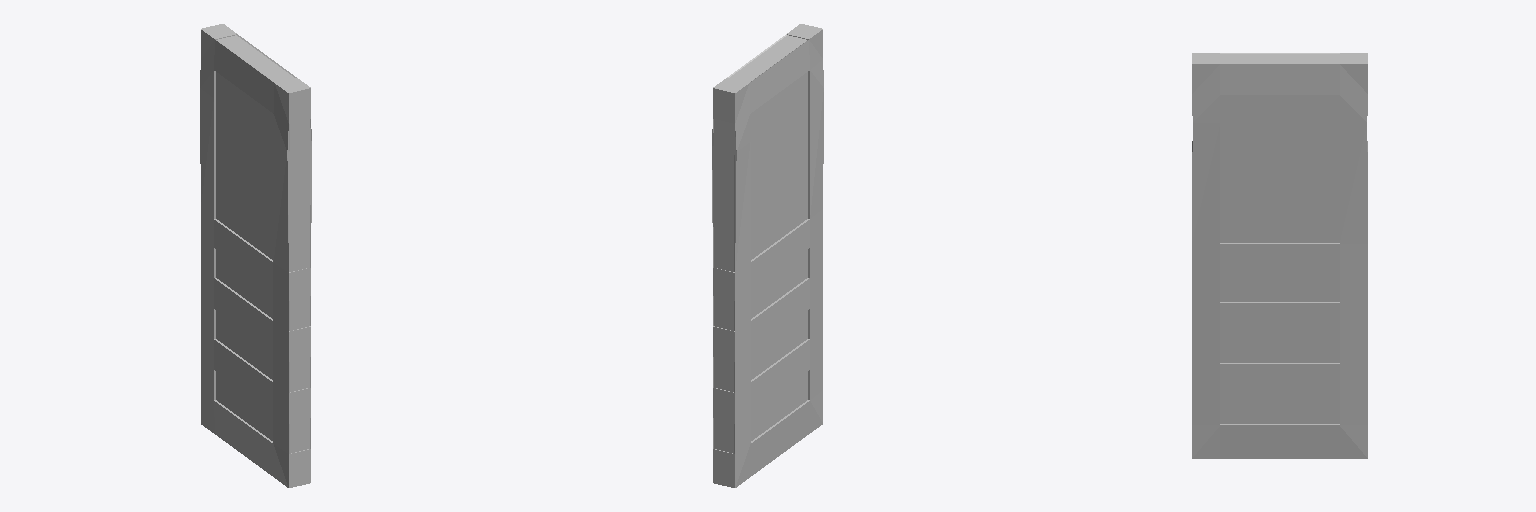
File: door.obj
3 renders of one model, left to right at view 1: azimuth 30°, elevation 25°; view 2: azimuth 150°, elevation 25°; view 3: azimuth 270°, elevation 25°, orthographic.
Visible parts, largest first — view 1: polySurface2751 polySurface2635; view 2: polySurface2751 polySurface2635; view 3: polySurface2751 polySurface2635.
Boxes of the visible parts, box(x1,y1,x2,y2) form: polySurface2751 polySurface2635: box(200, 24, 311, 487); polySurface2751 polySurface2635: box(712, 24, 823, 487); polySurface2751 polySurface2635: box(1192, 53, 1367, 458).
Size of the model in its own units: 0.1663 by 2.56 by 1.04.